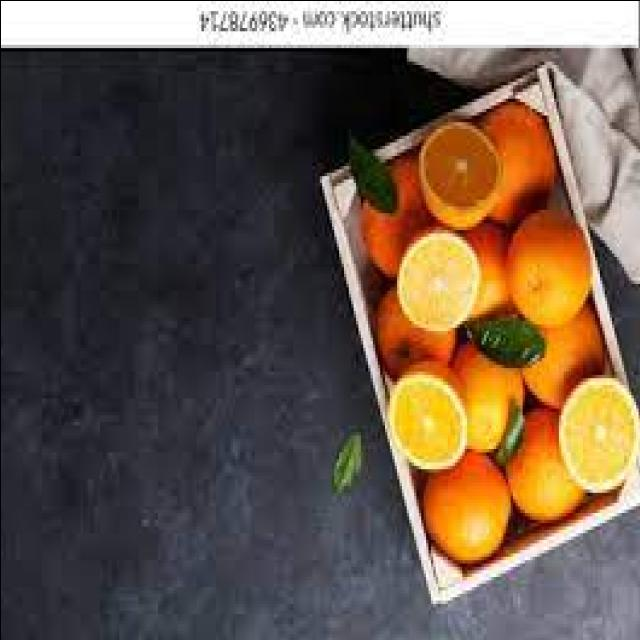orange: (509, 214, 590, 326)
